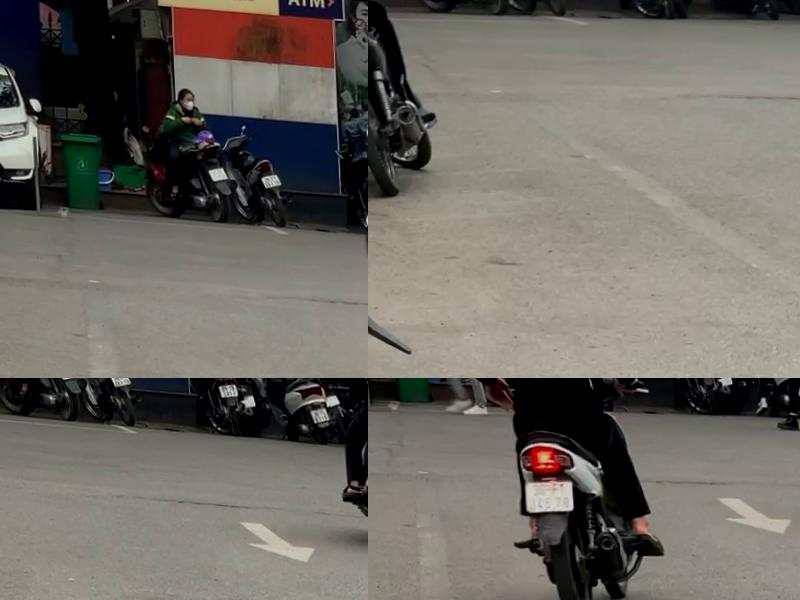license_plate: (520, 470, 572, 510), (307, 398, 327, 417), (258, 168, 280, 185), (206, 162, 227, 179), (217, 378, 236, 393), (107, 378, 129, 383), (793, 378, 800, 389)
motorcyclist: (461, 378, 664, 600), (328, 378, 368, 547)
